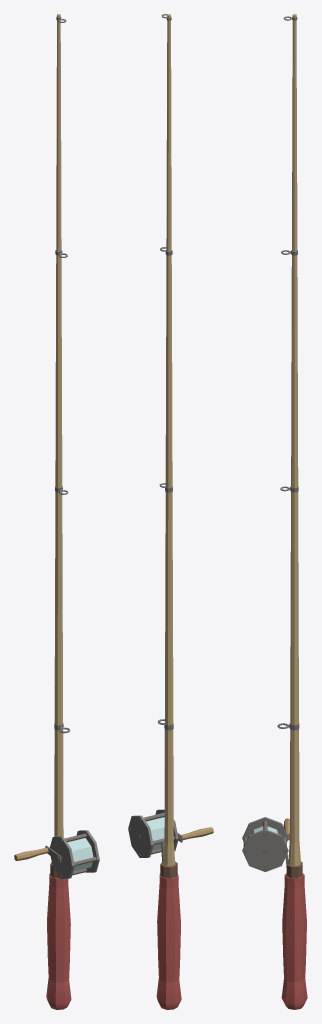
Rendered from atoll_fishingRod.fbx.
3 views of the same model, side by side, from view 1: azimuth 30°, elevation 25°; view 2: azimuth 210°, elevation 25°; view 3: azimuth 270°, elevation 25° (orthographic).
Parts seen in each view (by area): view 1: Rod, Handle (×2), Reel_Plate_R1, Spool, Reel_Plate_R; view 2: Rod, Handle (×2), Reel_Plate_R, Spool, Reel_Coupler; view 3: Rod, Handle, Reel_Plate_R, Reel_Plate_R1, Reel_Coupler.
Boxes of the visible parts, x1,y1,x2,y2 form: Rod: (54, 14, 63, 836); Handle (×2): (14, 847, 71, 1009); Reel_Plate_R1: (49, 836, 74, 878); Spool: (67, 838, 93, 871); Reel_Plate_R: (76, 830, 99, 872); Rod: (163, 14, 175, 866); Handle (×2): (156, 827, 213, 1009); Reel_Plate_R: (128, 815, 153, 857); Spool: (146, 817, 164, 850); Reel_Coupler: (160, 861, 177, 878); Rod: (288, 14, 300, 866); Handle: (281, 873, 307, 1009); Reel_Plate_R: (242, 829, 288, 871); Reel_Plate_R1: (242, 817, 288, 841); Reel_Coupler: (286, 861, 302, 878).
Bounding box in the file's own units: 17.39 × 266 × 15.91.
